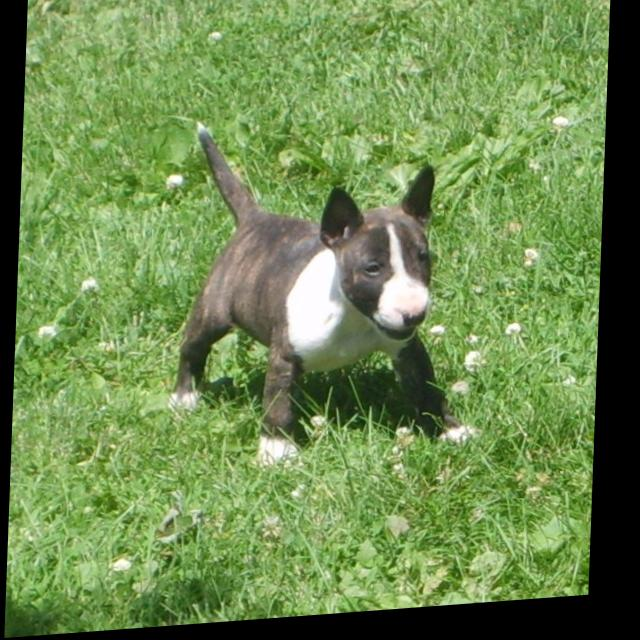bullterrier: (170, 107, 494, 479)
